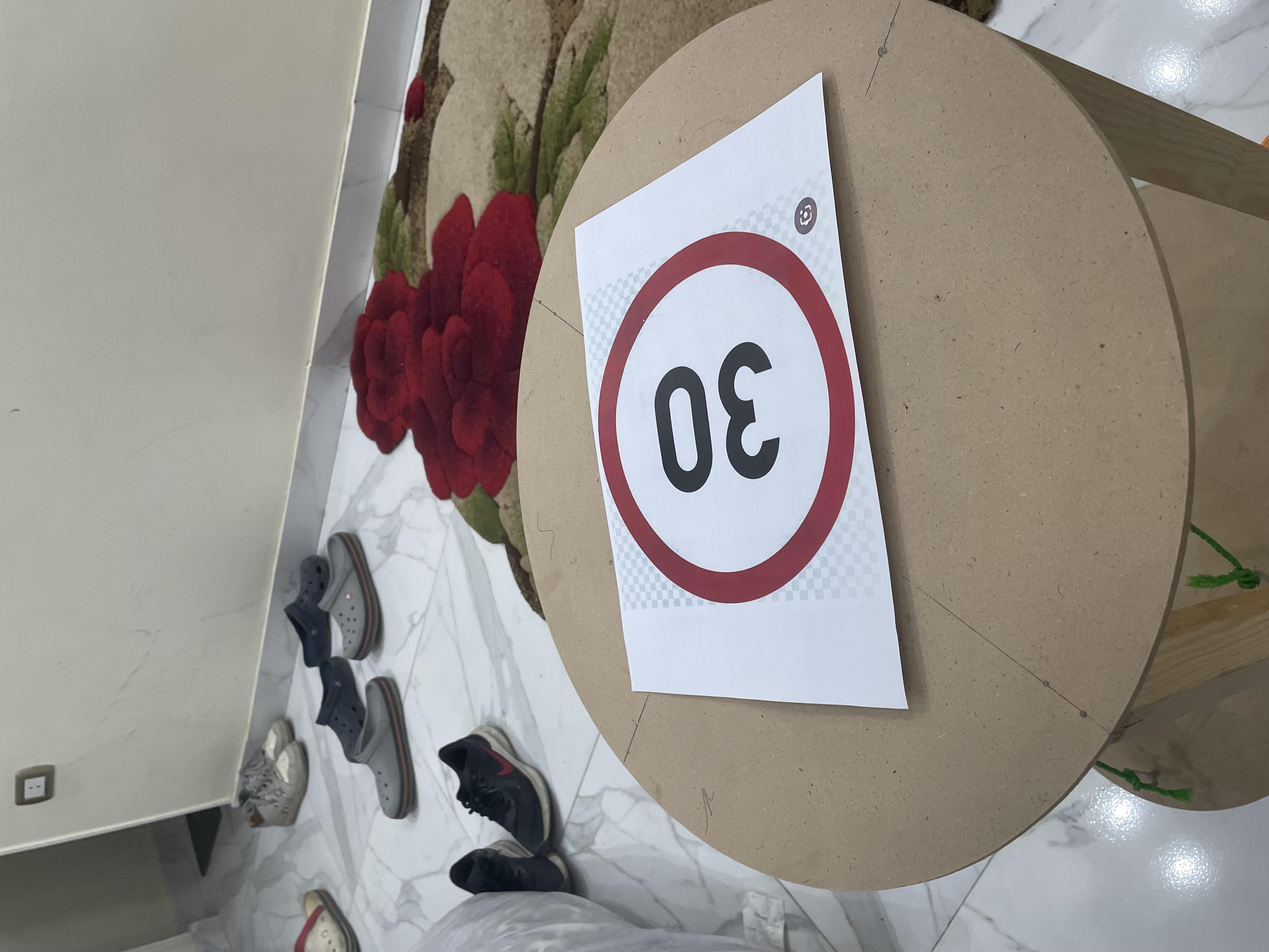30-speed: (450, 437, 996, 647)
